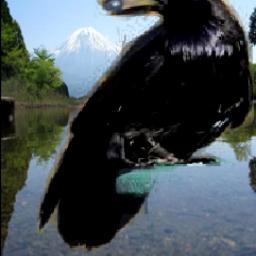Crow: (37, 0, 254, 253)
